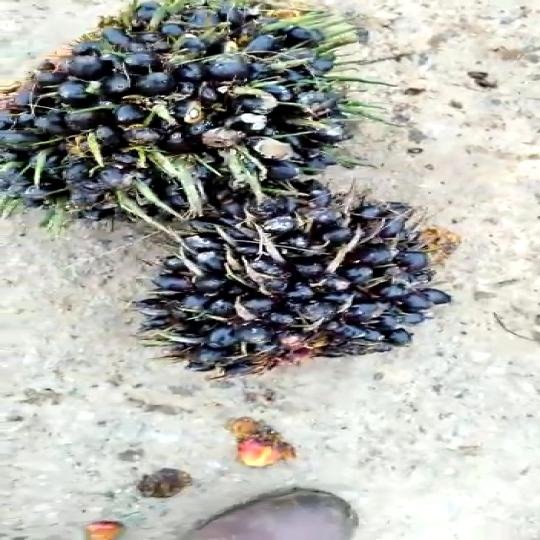mentah: (9, 0, 362, 218), (135, 204, 450, 382)
